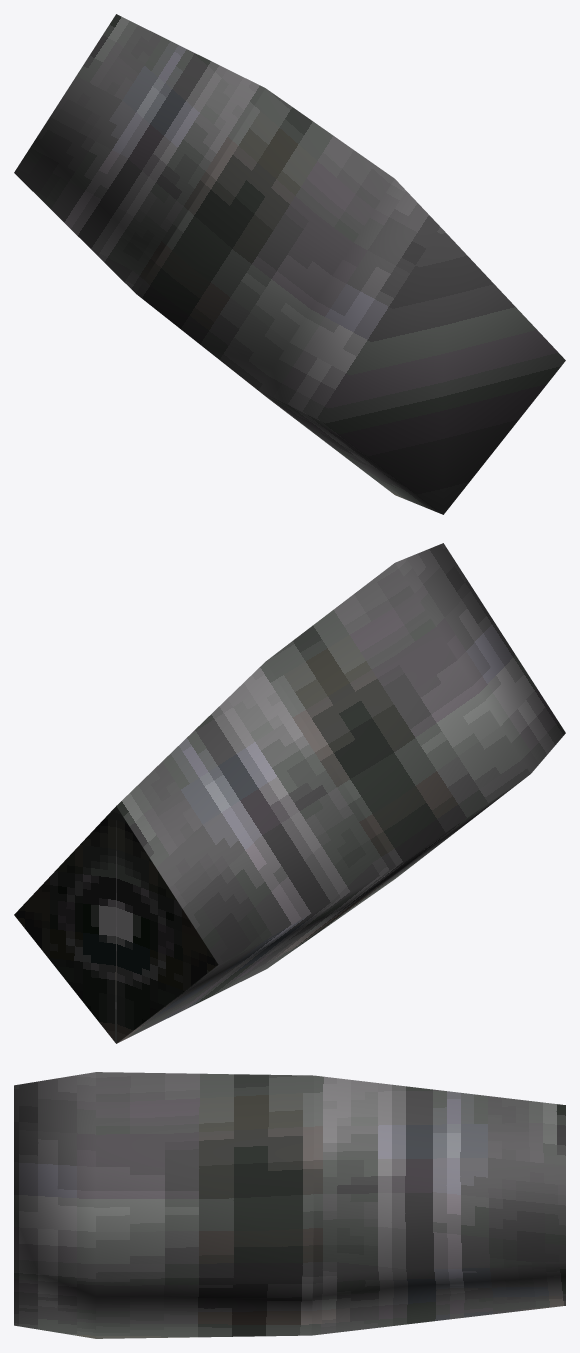
The model's file is awing_booster_s01_l3.fbx.
3 views of the same model, one above another, from view 1: azimuth 30°, elevation 25°; view 2: azimuth 150°, elevation 25°; view 3: azimuth 270°, elevation 25° (orthographic). The views are drawn at different scales.
Visible parts, largest first — view 1: mesh_node; view 2: mesh_node; view 3: mesh_node.
Part boxes in pixels (<box>): mesh_node: <box>14,14,565,514</box>; mesh_node: <box>14,543,565,1043</box>; mesh_node: <box>14,1072,565,1338</box>.
Bounding box in the file's own units: 0.6802 × 0.7562 × 1.42.
